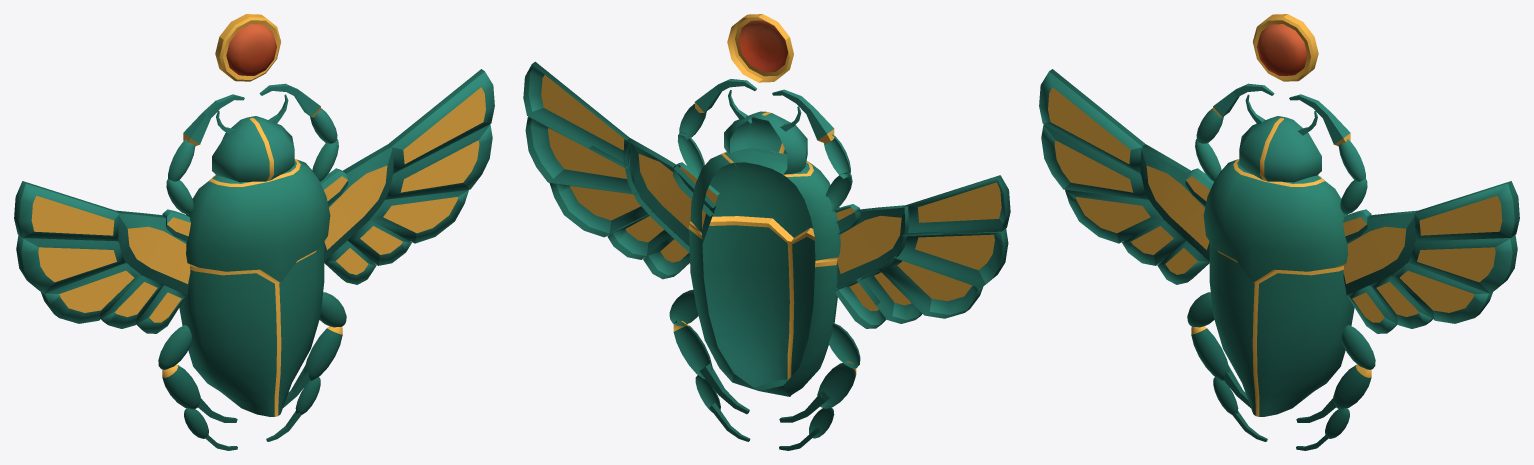
Rendered from Beetle.fbx.
3 renders of one model, left to right at view 1: azimuth 30°, elevation 25°; view 2: azimuth 150°, elevation 25°; view 3: azimuth 330°, elevation 25°, orthographic.
Parts seen in each view (by area): view 1: Beetle; view 2: Beetle; view 3: Beetle.
Part boxes in pixels (x1,y1,x2,y2): Beetle: (14,14,494,450); Beetle: (523,14,1010,450); Beetle: (1039,14,1519,450).
Bounding box in the file's own units: 282 × 242 × 36.99.
